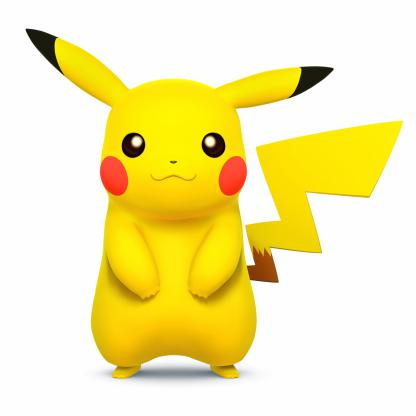Pikachu: (22, 13, 403, 389)
